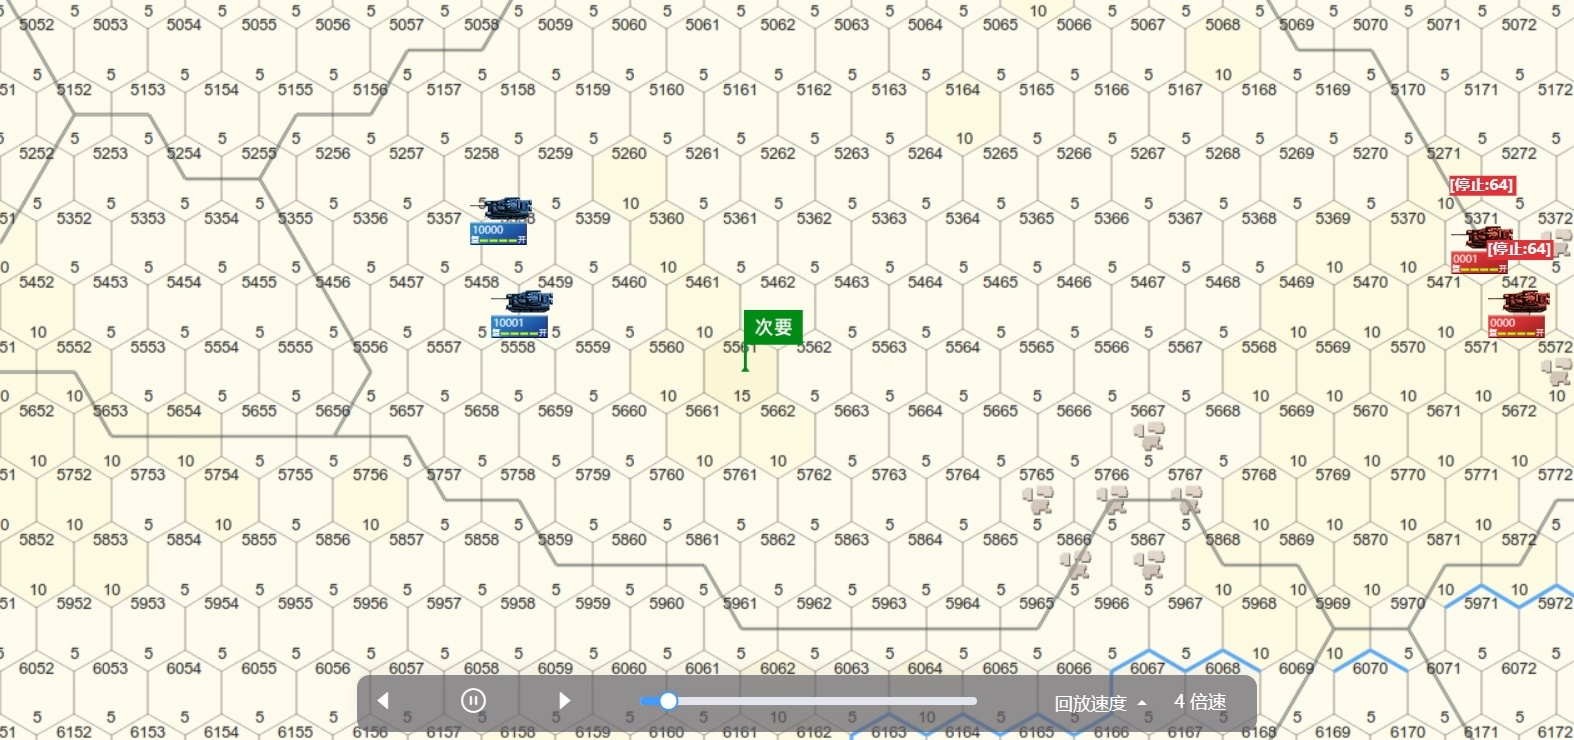blue_tank: (489, 283, 562, 345), (476, 197, 541, 253)
red_tank: (1490, 288, 1554, 345), (1459, 223, 1514, 283)
